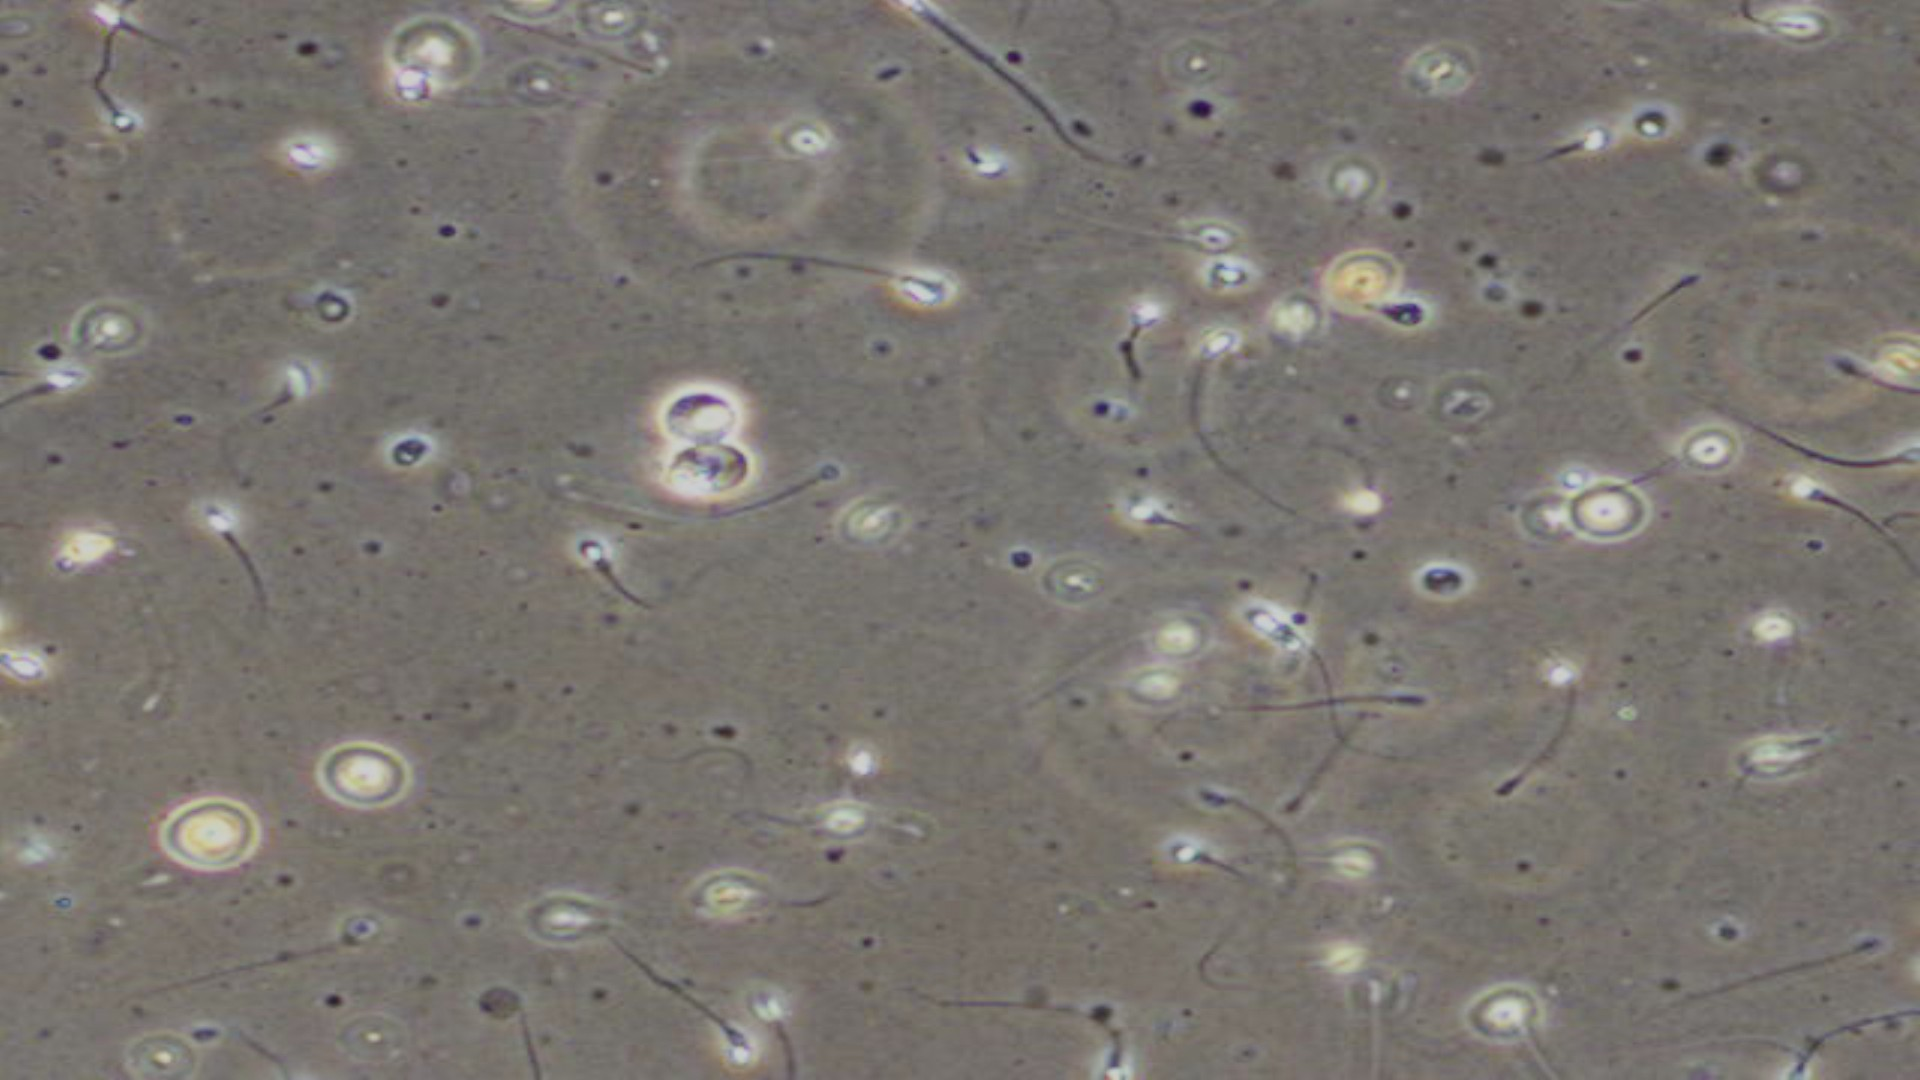sperm: (582, 531, 704, 621), (655, 960, 754, 1062), (1182, 323, 1259, 448), (1789, 477, 1890, 559), (208, 502, 277, 618), (227, 359, 320, 442), (750, 984, 825, 1080), (831, 252, 957, 307), (1160, 847, 1263, 903), (1513, 127, 1607, 185), (3, 364, 92, 414), (78, 74, 146, 135), (1110, 306, 1164, 382)
